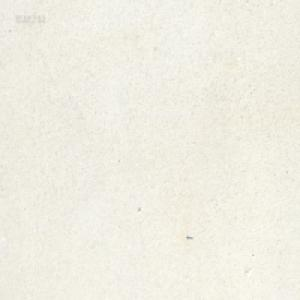Nail: (186, 234, 193, 239)
